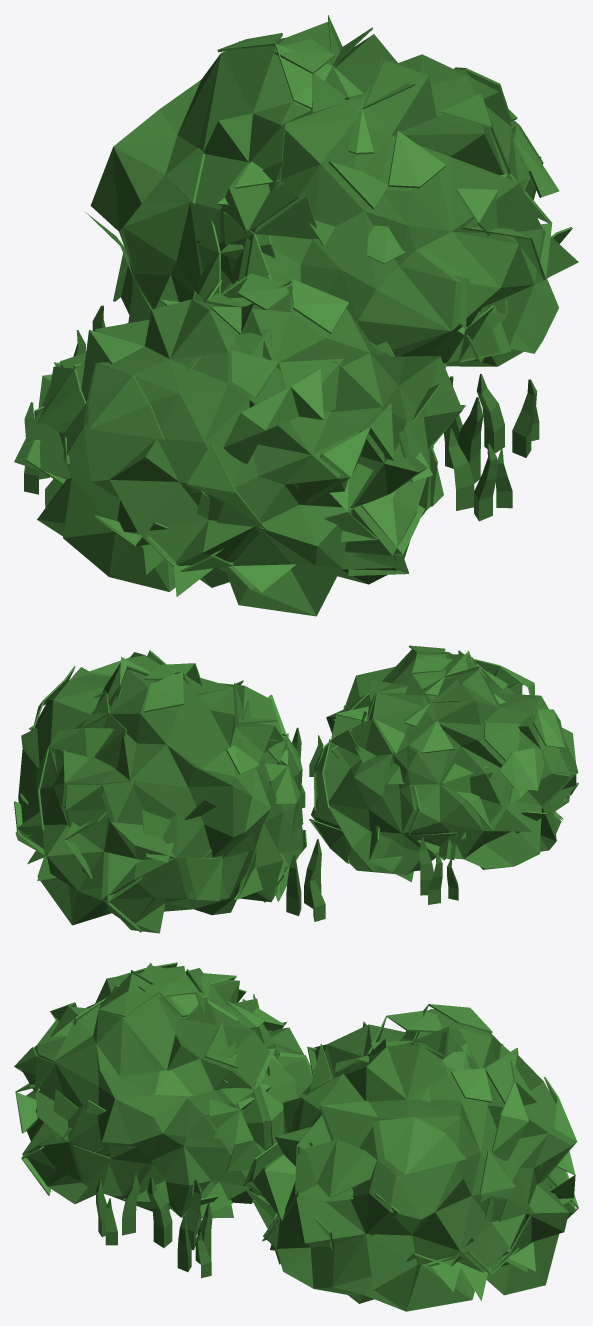
File: Bush group 3.fbx
3 views of the same model, one above another, from view 1: azimuth 30°, elevation 25°; view 2: azimuth 150°, elevation 25°; view 3: azimuth 270°, elevation 25° (orthographic). The views are drawn at different scales.
Parts seen in each view (by area): view 1: Bush group 3; view 2: Bush group 3; view 3: Bush group 3.
Part boxes in pixels (left/top/right/bottom): Bush group 3: left=14, top=15, right=578, bottom=616; Bush group 3: left=14, top=645, right=578, bottom=933; Bush group 3: left=14, top=962, right=578, bottom=1311.
Bounding box in the file's own units: 7.32 × 3.79 × 7.5.
